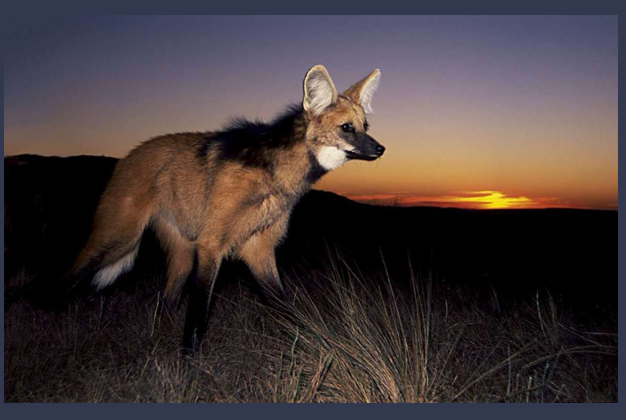LoboGuara: (64, 61, 388, 320)
